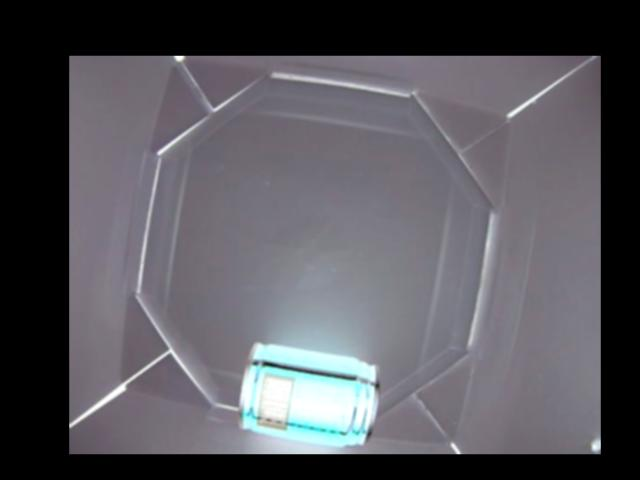Bottle: (237, 343, 375, 447)
